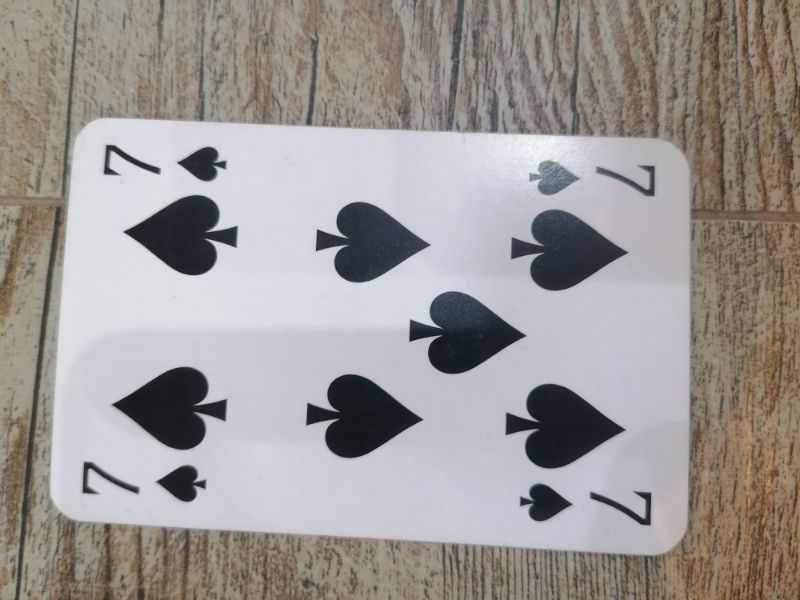7s: (514, 475, 659, 535), (75, 453, 214, 512), (524, 151, 662, 205), (99, 138, 232, 189)
